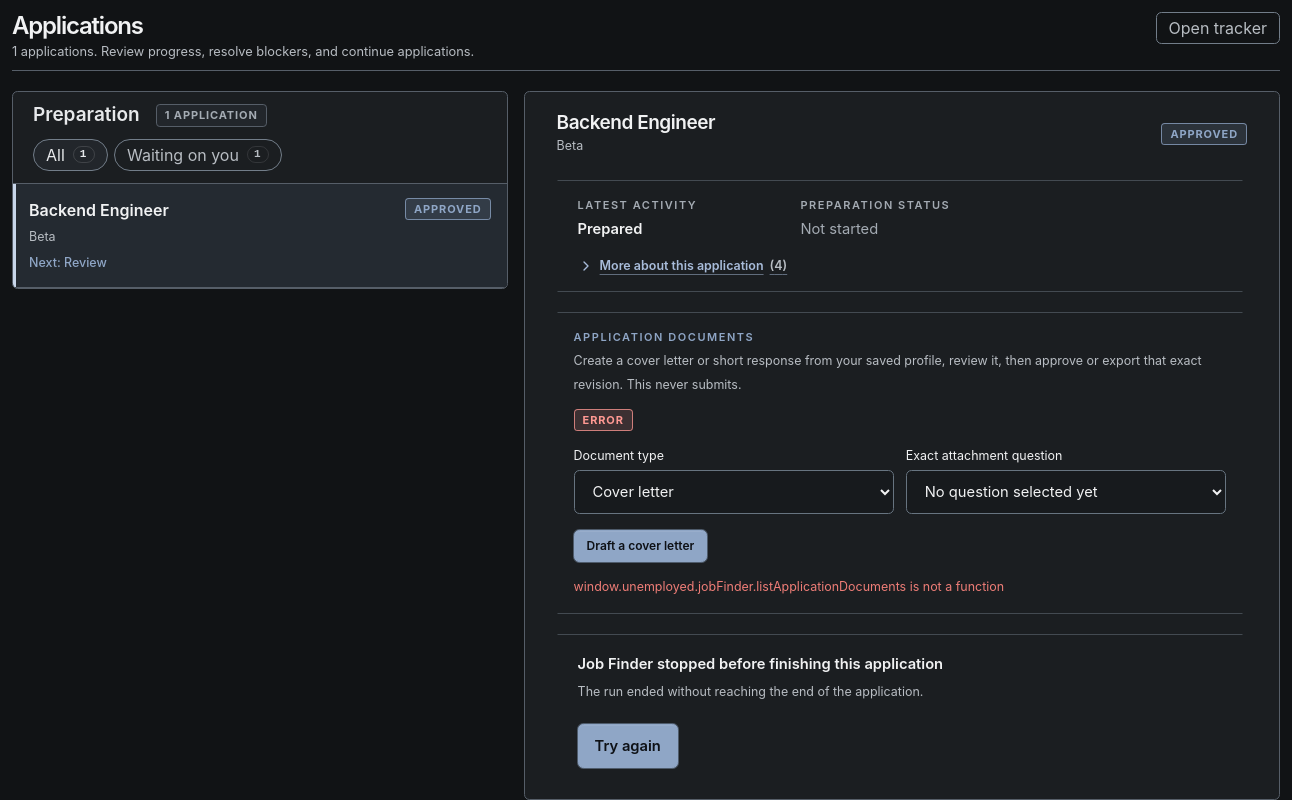
Test: ApplicationsScreen › offers no filter recovery advice when tracking tools are unavailable
The image size is (1292, 800).
Step 1. Click the button "Open tracker" → (1218, 28), box 1156,12 -> 1280,44
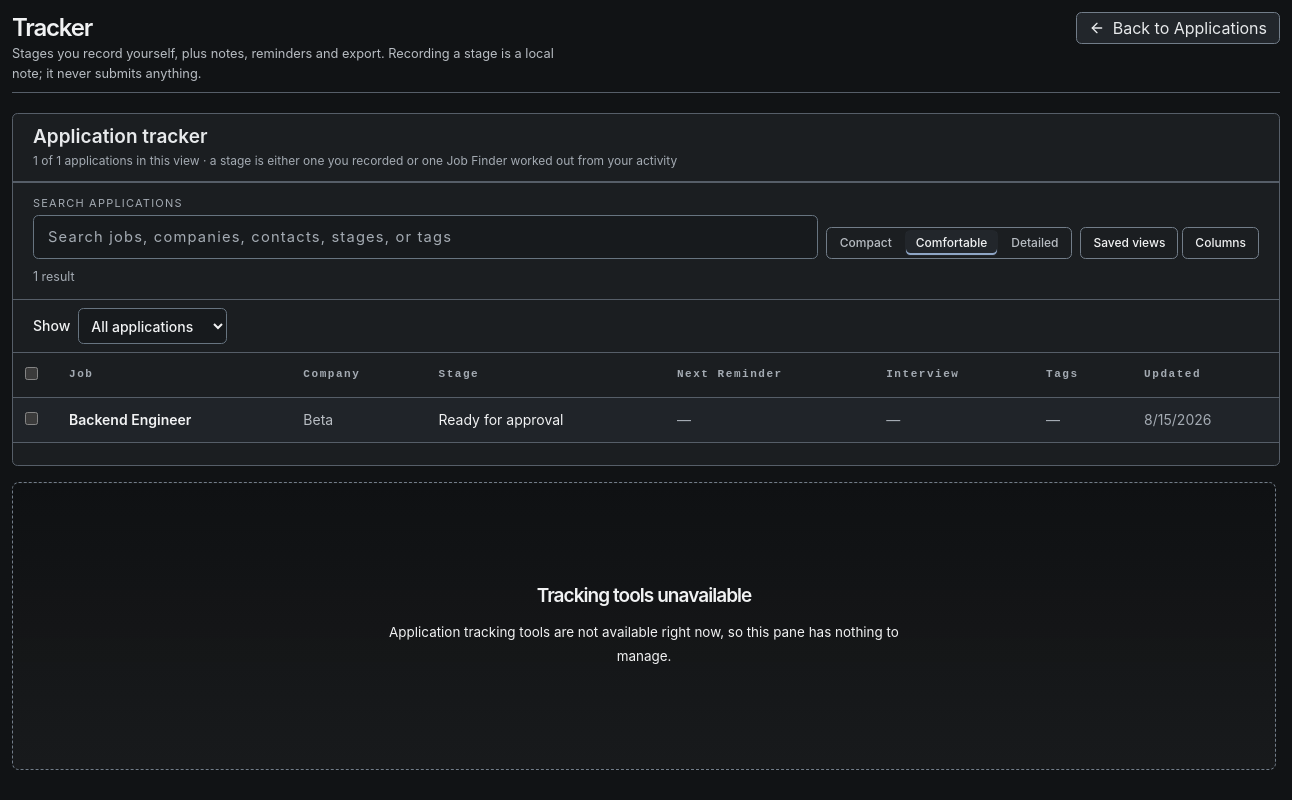
Result: the heading "Tracking tools unavailable" is shown at 537,584 -> 751,607
